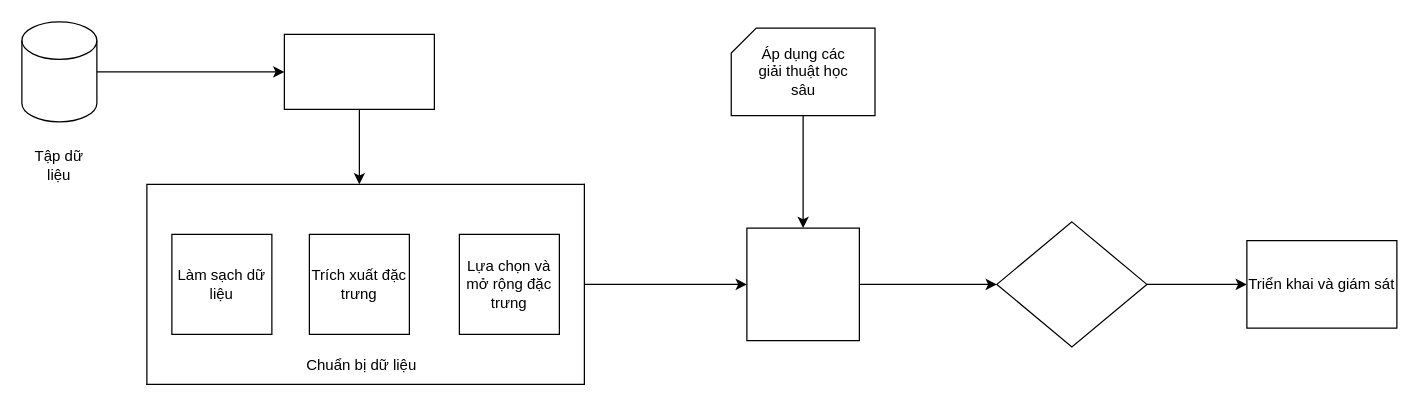
The diagram is 1419 pixels wide and 406 high, and some of its shapes have lost their labels. The centre of each missing label's shape, as x and y in pixels:
Modeling GCN: point (802, 284)
Xử lý dữ liệu: point (358, 71)
Đánh giá mô hình: point (1071, 284)
